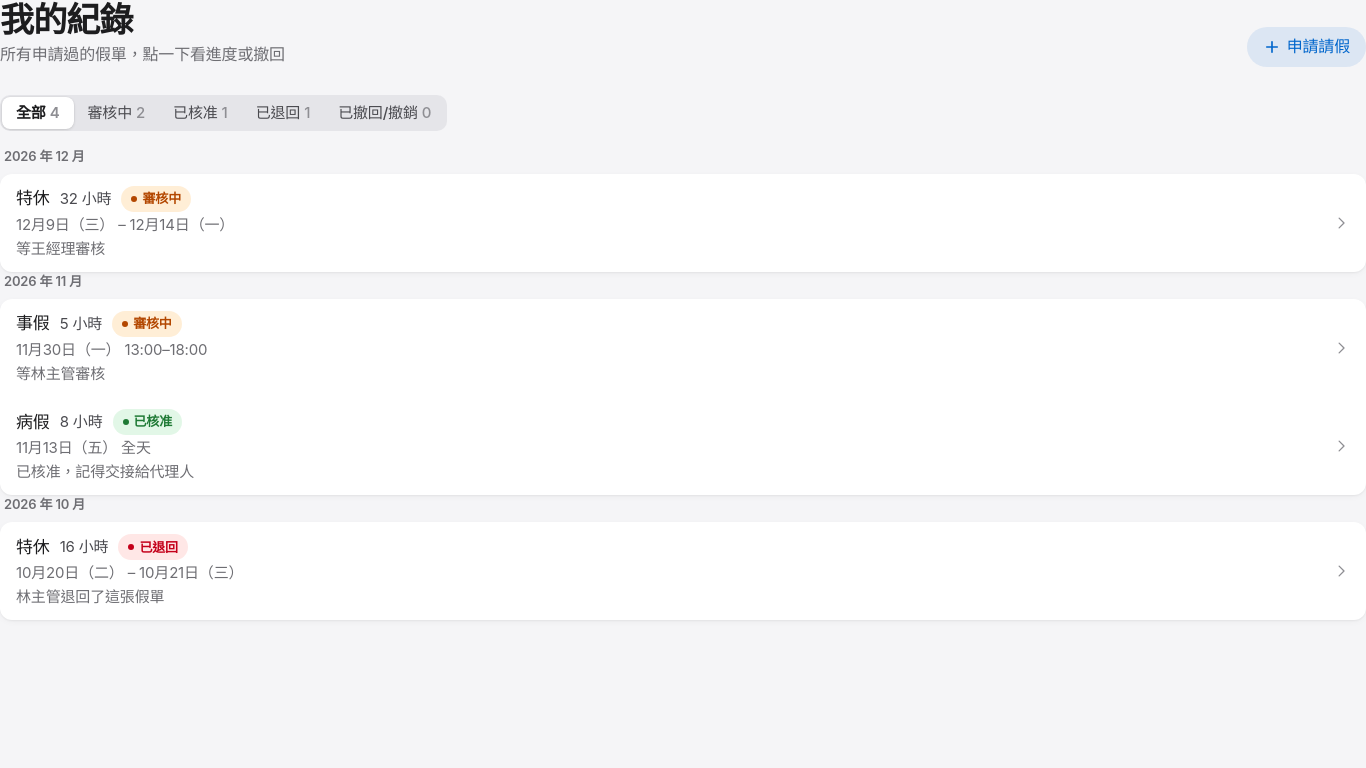
Test: RecordsPage › has no cancel button for approved leave that already happened
Expected: the heading "我的紀錄" is shown, [0,0,133,40]
Click the button "病假 8 小時 已核准 11月13日（五） 全天 已核准，記得交接給代理人": (33,422) [0,397,1365,495]
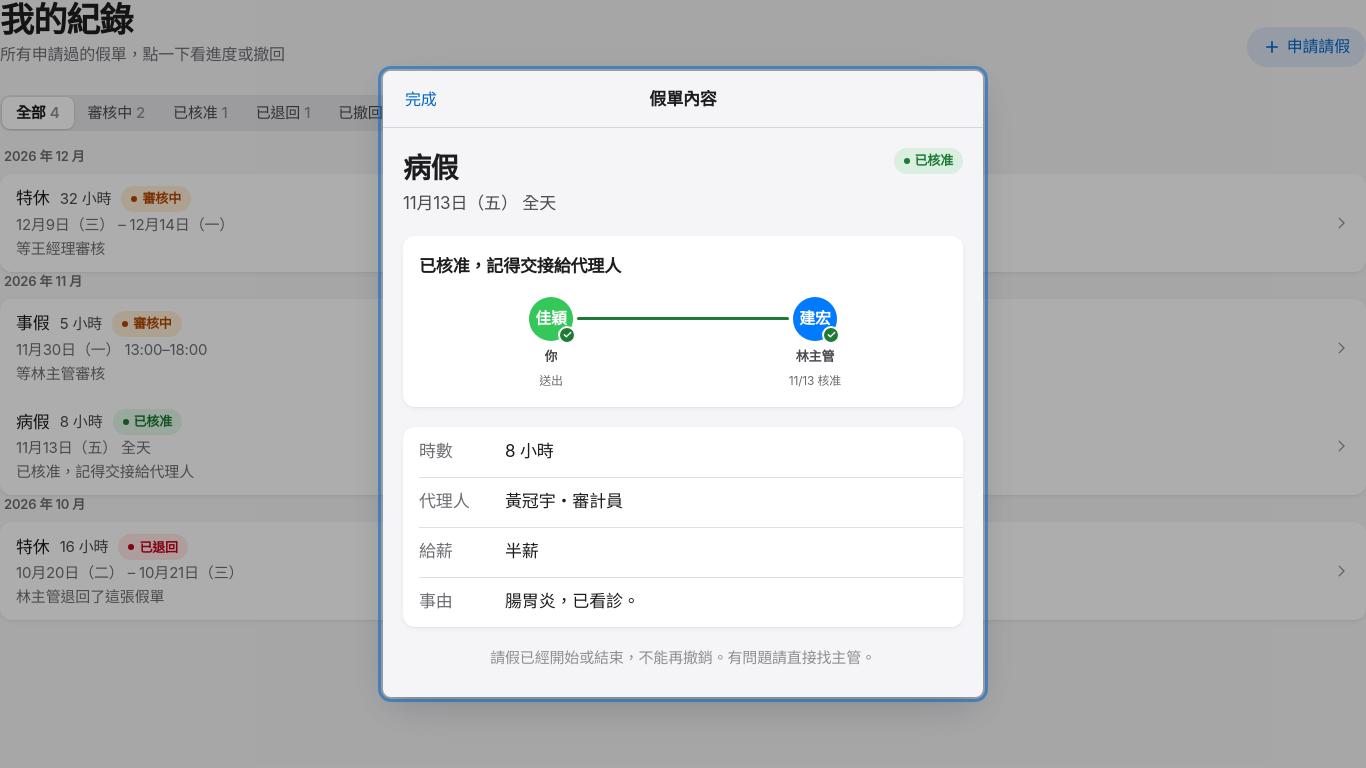
Expected: the text "請假已經開始或結束，不能再撤銷。有問題請直接找主管。" is shown, [490,648,876,667]
